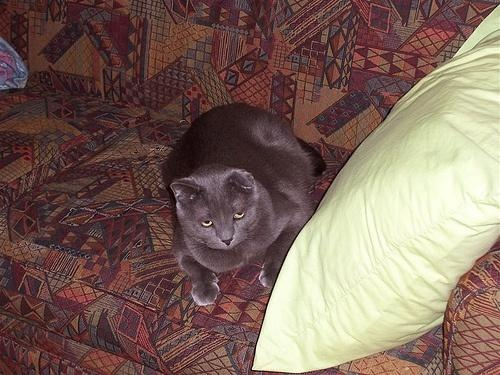cat: (162, 101, 330, 306)
sofa: (1, 1, 499, 373)
